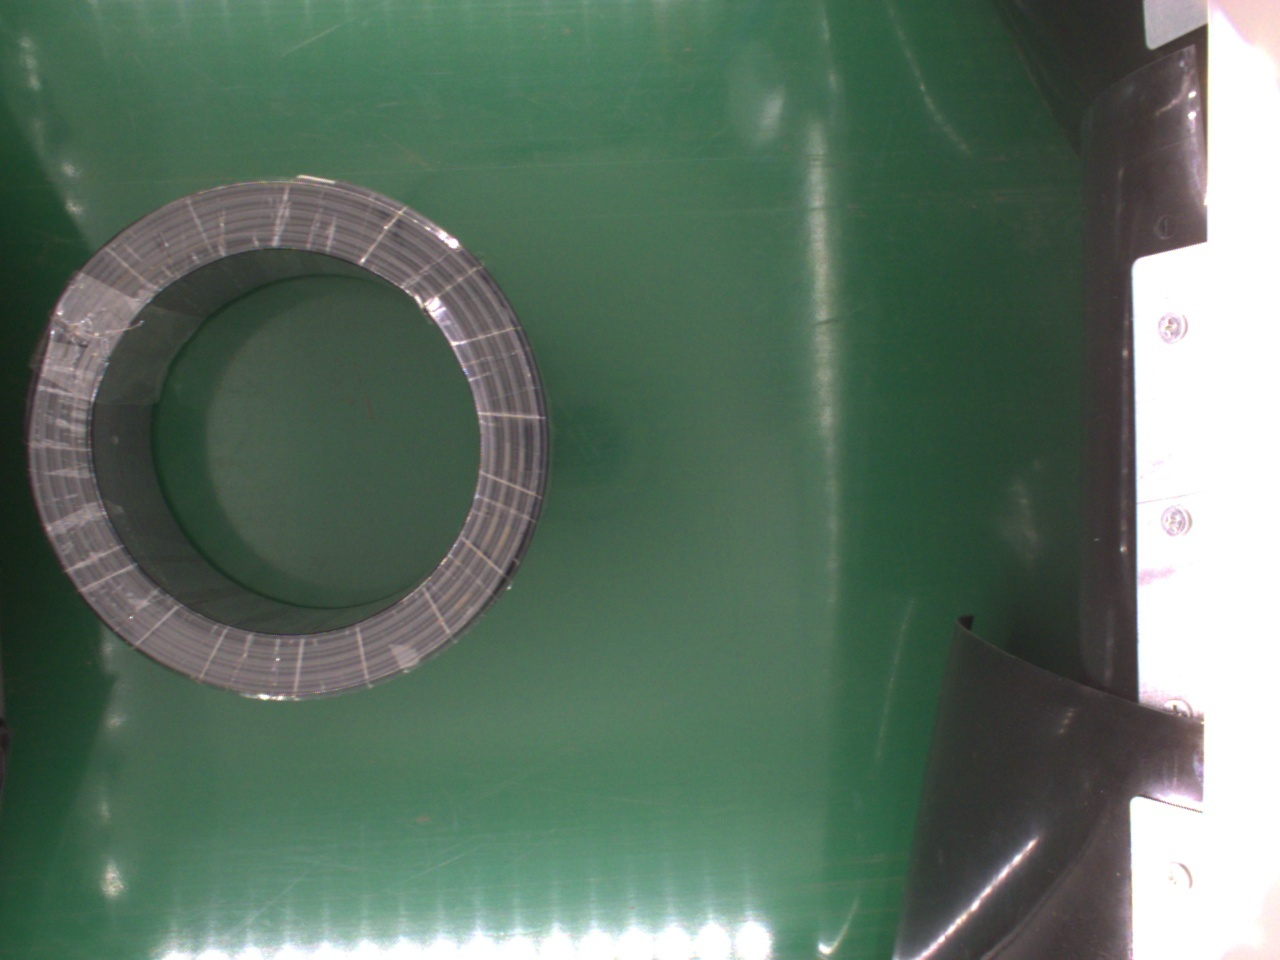black: (25, 179, 550, 708)
